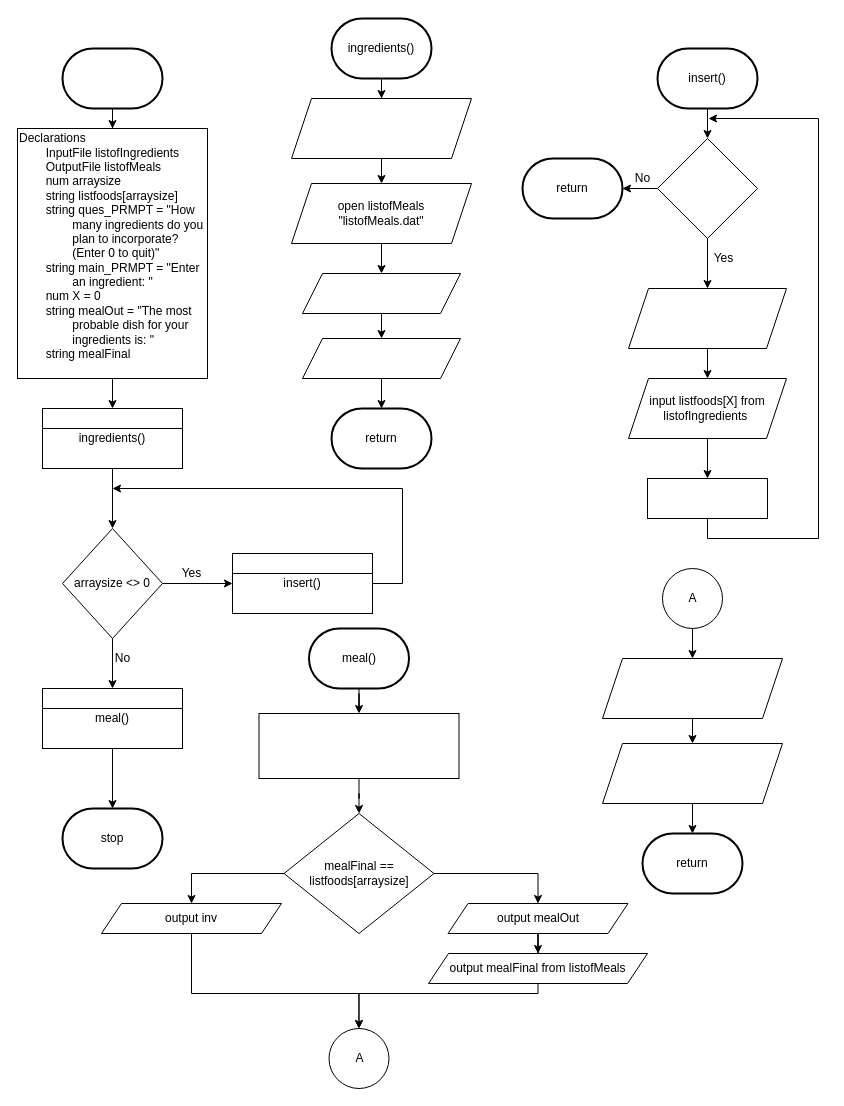
The diagram is 844 pixels wide and 1106 high, and some of its shapes have lost their labels. Here are the shapes that lost their labels. From the top down, the centre of each, then its label:
(112,78): start
(381,128): open listofIngredients "listofIngredients.dat"
(707,188): X < arraysize
(381,293): output ques_PRMPT
(707,318): output main_PRMPT
(381,358): input arraysize
(707,498): X = X+1
(692,688): close listofIngredients
(358,745): Declarations string inv = "Set of ingredients could not form a meal."
(692,773): close listofMeals
